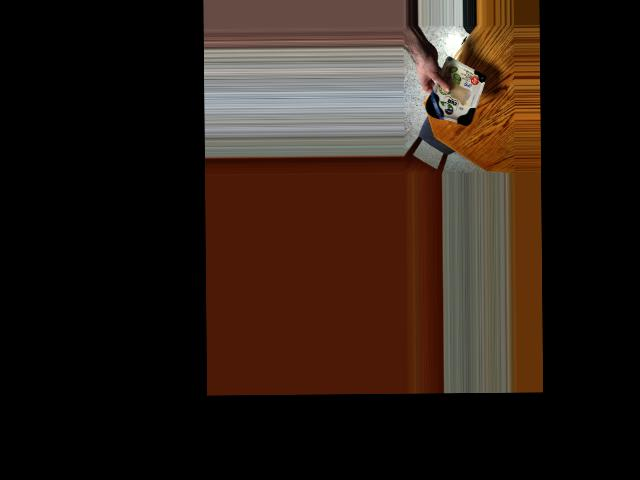cheese: (427, 67, 484, 129)
